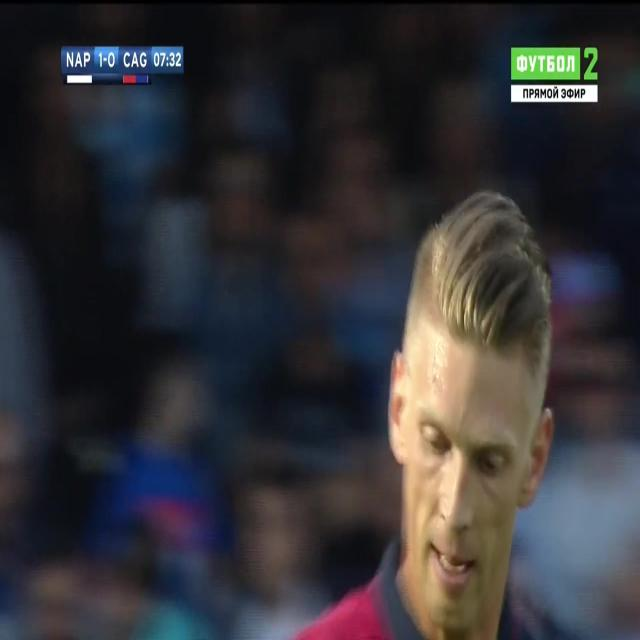Player: (290, 185, 600, 640)
